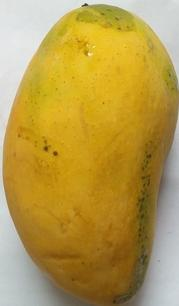Ripe: (1, 1, 179, 306)
